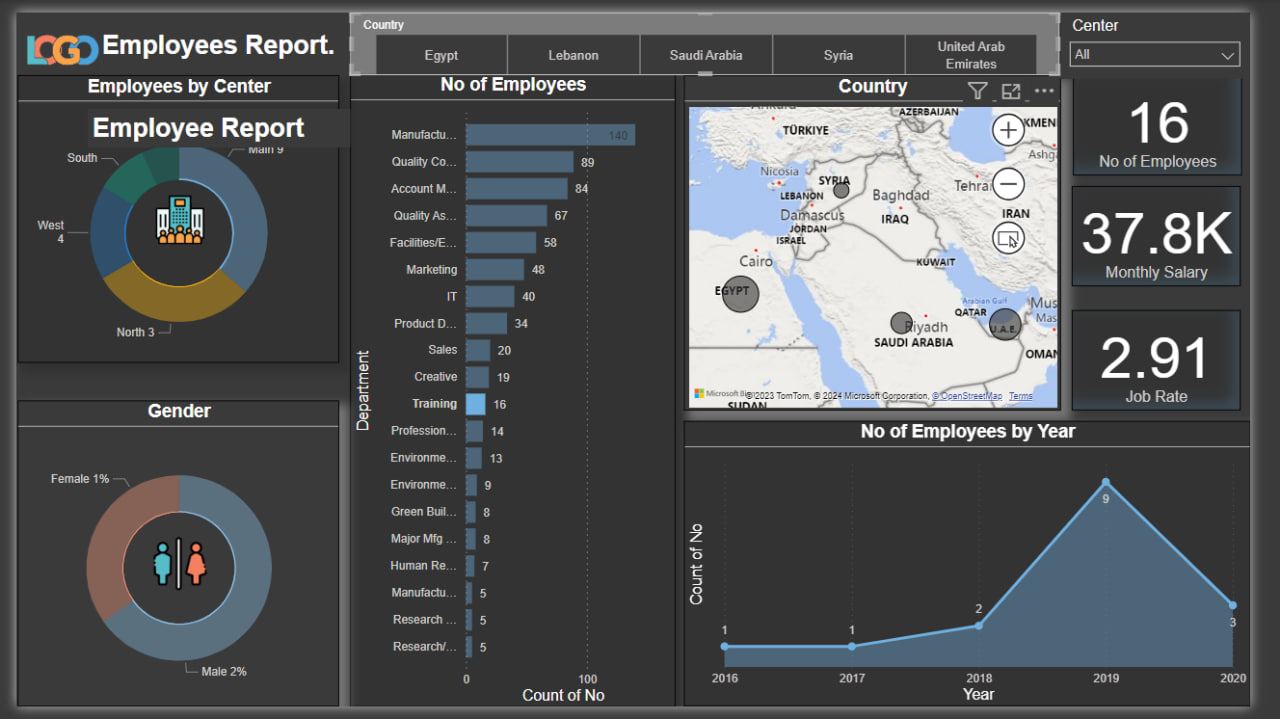

The page's visual inventory and layout, read from the dashboard file:
{"tool":"powerbi","page":{"name":"Page 1","canvas":[1280,720],"ordinal":0},"visuals":[{"type":"clusteredBarChart","title":"No of Employees","fields":{"Category":["EmpTable.Department"],"Y":["CountNonNull(EmpTable.No)"]},"box":[345.9,63.6,337.4,656.4],"z":0},{"type":"donutChart","title":"Employees by Center","fields":{"Category":["EmpTable.Center"],"Y":["CountNonNull(EmpTable.No)"]},"box":[1.2,64.8,333.7,298.3],"z":1000},{"type":"donutChart","title":"Gender","fields":{"Category":["EmpTable.Gender"],"Y":["CountNonNull(EmpTable.Gender)"]},"box":[1.2,402.2,333.7,317.8],"z":2000},{"type":"map","title":"Country","fields":{"Category":["EmpTable.Country"],"Size":["Sum(EmpTable.No)"]},"box":[691.9,64.8,391.2,348.4],"z":3000},{"type":"areaChart","title":"No of Employees by Year","fields":{"Category":["EmpTable.Start Date.Variation.Date Hierarchy.Year","EmpTable.Start Date.Variation.Date Hierarchy.Quarter","EmpTable.Start Date.Variation.Date Hierarchy.Month","EmpTable.Start Date.Variation.Date Hierarchy.Day"],"Y":["CountNonNull(EmpTable.No)"]},"box":[691.9,424.2,588,295.8],"z":4000},{"type":"card","fields":{"Values":["CountNonNull(EmpTable.No)"]},"box":[1096.5,64.8,174.8,103.9],"z":5000},{"type":"card","fields":{"Values":["Sum(EmpTable.Monthly Salary)"]},"box":[1095.3,179.7,174.8,103.9],"z":6000},{"type":"card","fields":{"Values":["Avg(EmpTable.Job Rate)"]},"box":[1095.3,309.3,174.8,103.9],"z":7000},{"type":"slicer","fields":{"Values":["EmpTable.Country"]},"box":[345.9,0,737.1,64.8],"z":8000},{"type":"slicer","fields":{"Values":["EmpTable.Center"]},"box":[1083.1,0,196.8,68.5],"z":9000},{"type":"textbox","box":[73.3,100.2,272.6,40.3],"z":10000},{"type":"textbox","box":[84.3,13.4,261.6,50.1],"z":11000},{"type":"image","box":[1.2,0,92.9,77],"z":12000},{"type":"image","box":[136.9,536.6,64.8,70.9],"z":13000},{"type":"image","box":[134.5,184.6,69.7,59.9],"z":14000}]}

Visuals, with their boxes in screenshot pixels (x1, y1, x2, y2), scaled from the page's 1280x720 canvas onto the 1280x719 screenshot:
"No of Employees" clusteredBarChart: Rect(346, 64, 683, 718)
"Employees by Center" donutChart: Rect(1, 65, 335, 363)
"Gender" donutChart: Rect(1, 402, 335, 718)
"Country" map: Rect(692, 65, 1083, 413)
"No of Employees by Year" areaChart: Rect(692, 424, 1279, 718)
card - CountNonNull(EmpTable.No): Rect(1096, 65, 1271, 168)
card - Sum(EmpTable.Monthly Salary): Rect(1095, 179, 1270, 283)
card - Avg(EmpTable.Job Rate): Rect(1095, 309, 1270, 413)
slicer - EmpTable.Country: Rect(346, 0, 1083, 65)
slicer - EmpTable.Center: Rect(1083, 0, 1279, 68)
textbox: Rect(73, 100, 346, 140)
textbox: Rect(84, 13, 346, 63)
image: Rect(1, 0, 94, 77)
image: Rect(137, 536, 202, 607)
image: Rect(134, 184, 204, 244)
